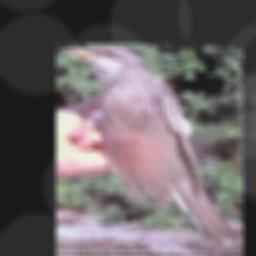Cuckoo: (61, 45, 236, 252)
